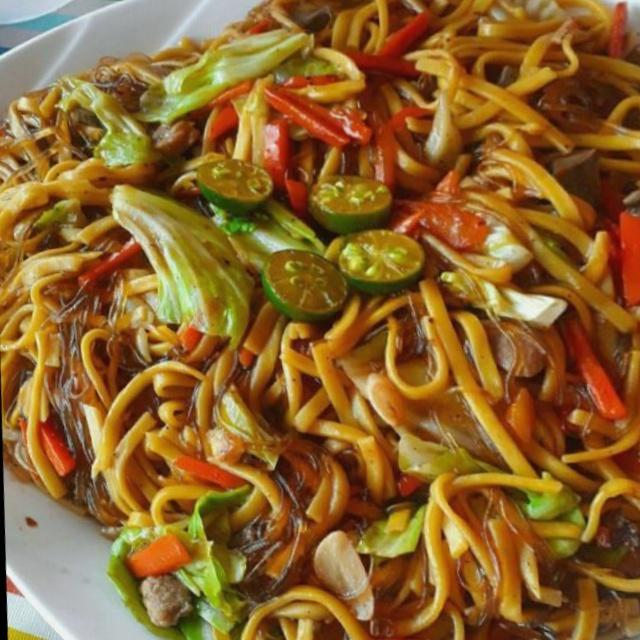pancit bihon: (0, 1, 639, 639)
